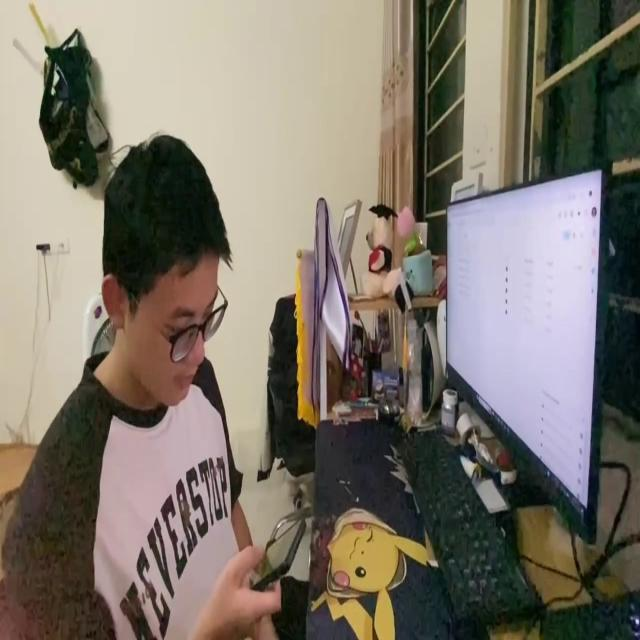laptop: (435, 154, 625, 536)
phone: (251, 506, 304, 588)
student: (2, 117, 310, 640)
